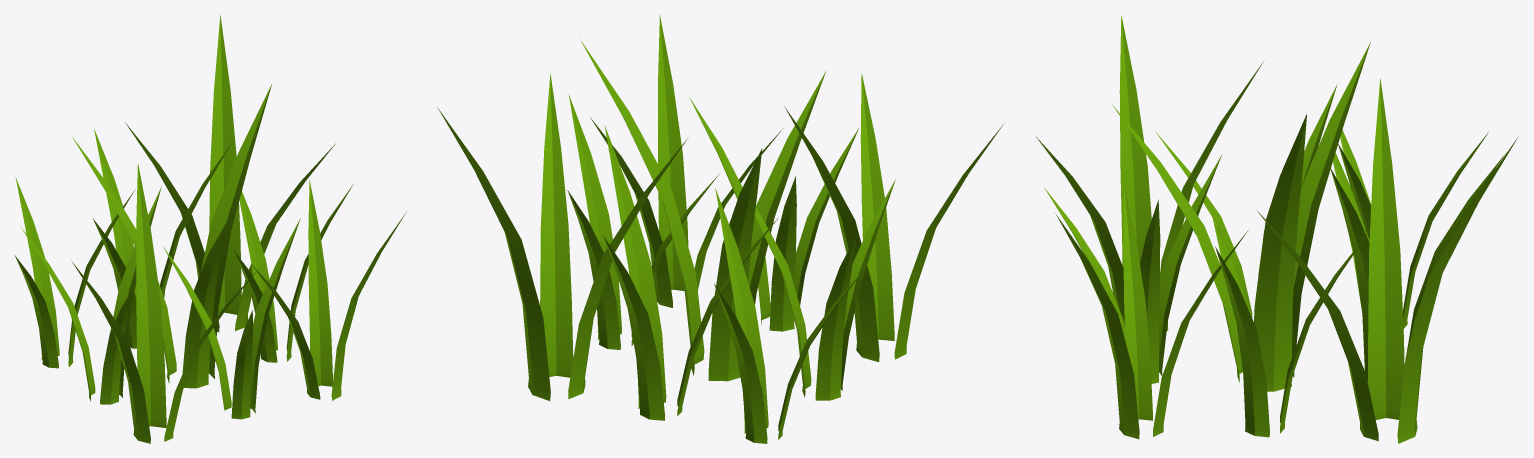
File: Grass.fbx
3 renders of one model, left to right at view 1: azimuth 30°, elevation 25°; view 2: azimuth 150°, elevation 25°; view 3: azimuth 270°, elevation 25°, orthographic. The views are drawn at different scales.
Parts seen in each view (by area): view 1: Grass; view 2: Grass; view 3: Grass.
Boxes of the visible parts, box(x1,y1,x2,y2) form: Grass: box(14, 15, 406, 443); Grass: box(437, 14, 1003, 443); Grass: box(1035, 15, 1518, 443).
Size of the model in its own units: 760 by 590 by 792.
